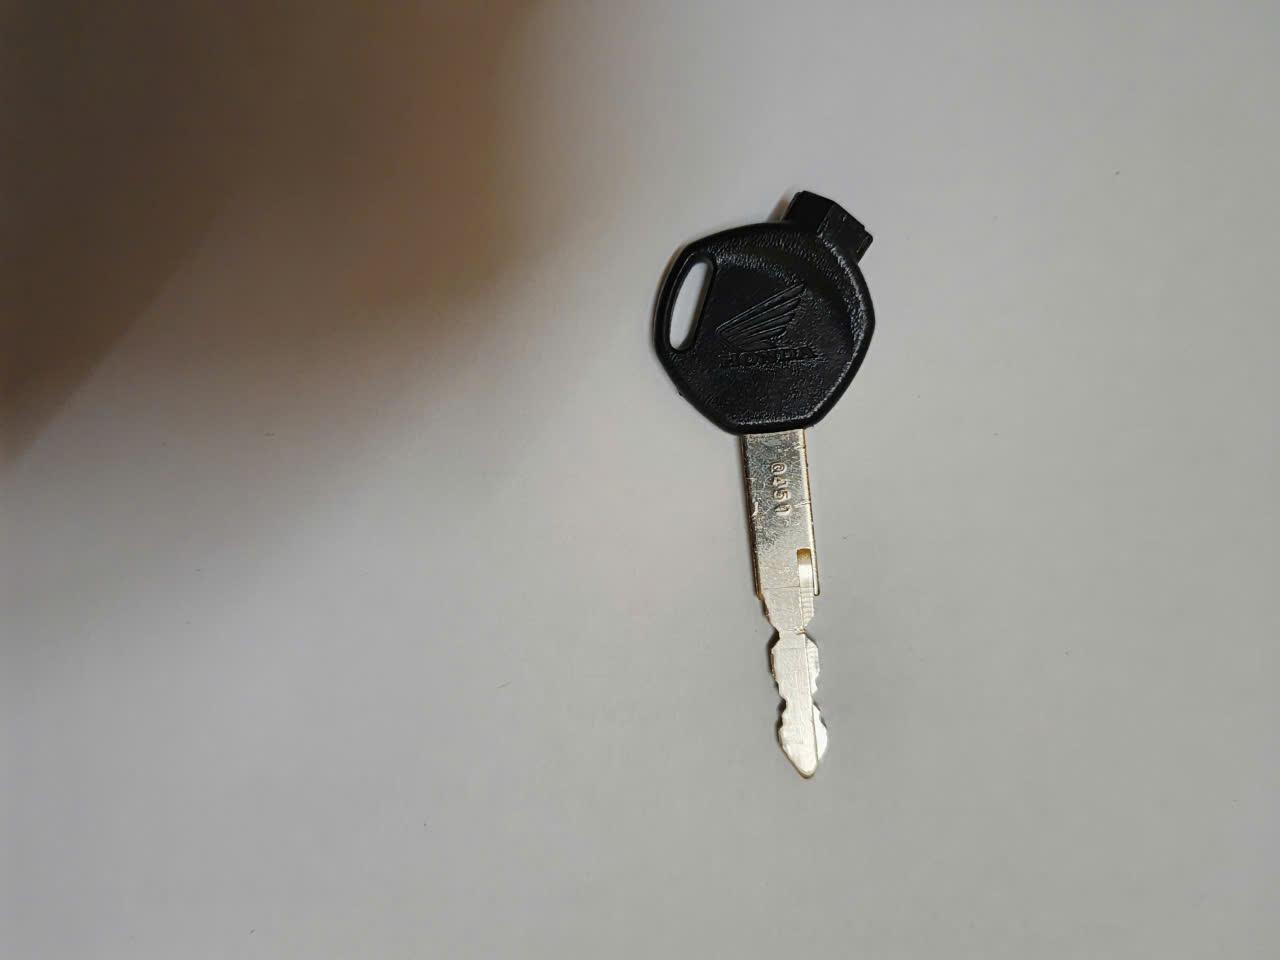Vo co: (648, 189, 879, 785)
